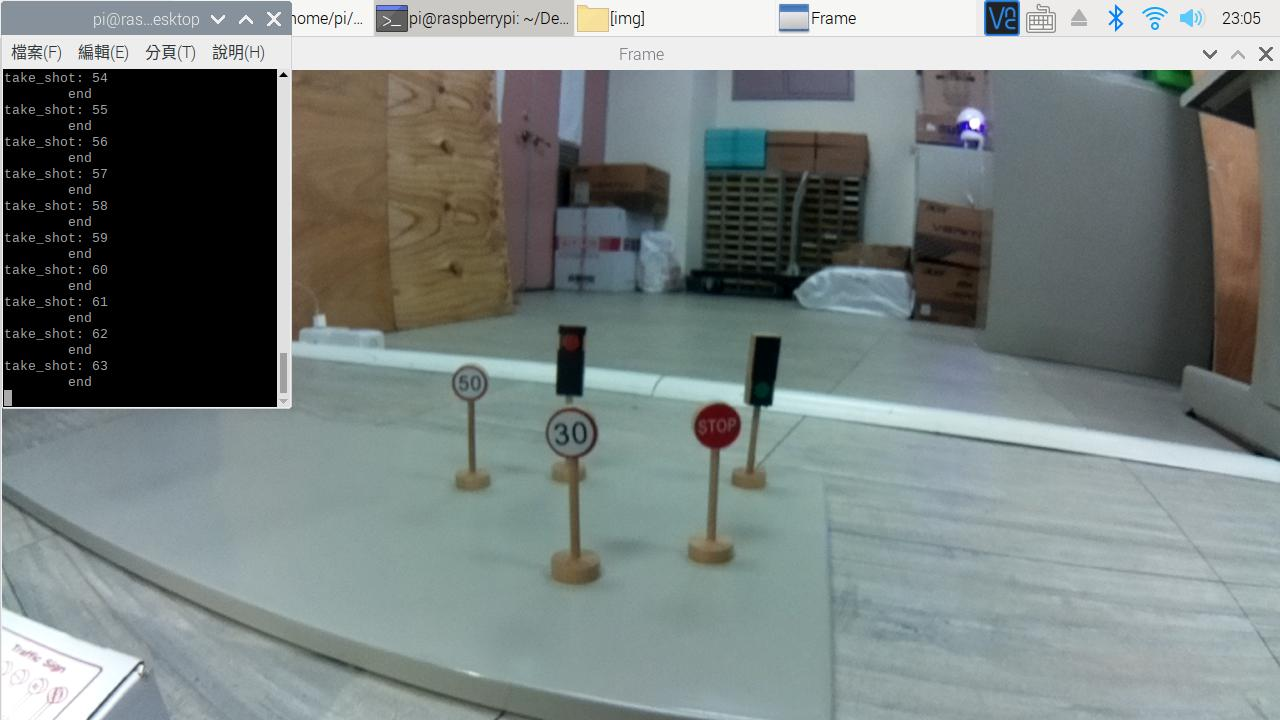Green: (743, 323, 783, 410)
Red: (550, 318, 592, 399)
Speed30: (543, 407, 601, 460)
Speed50: (449, 357, 492, 402)
Stop: (688, 399, 743, 452)
